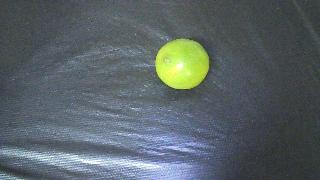LOCAL: (155, 39, 209, 89)
